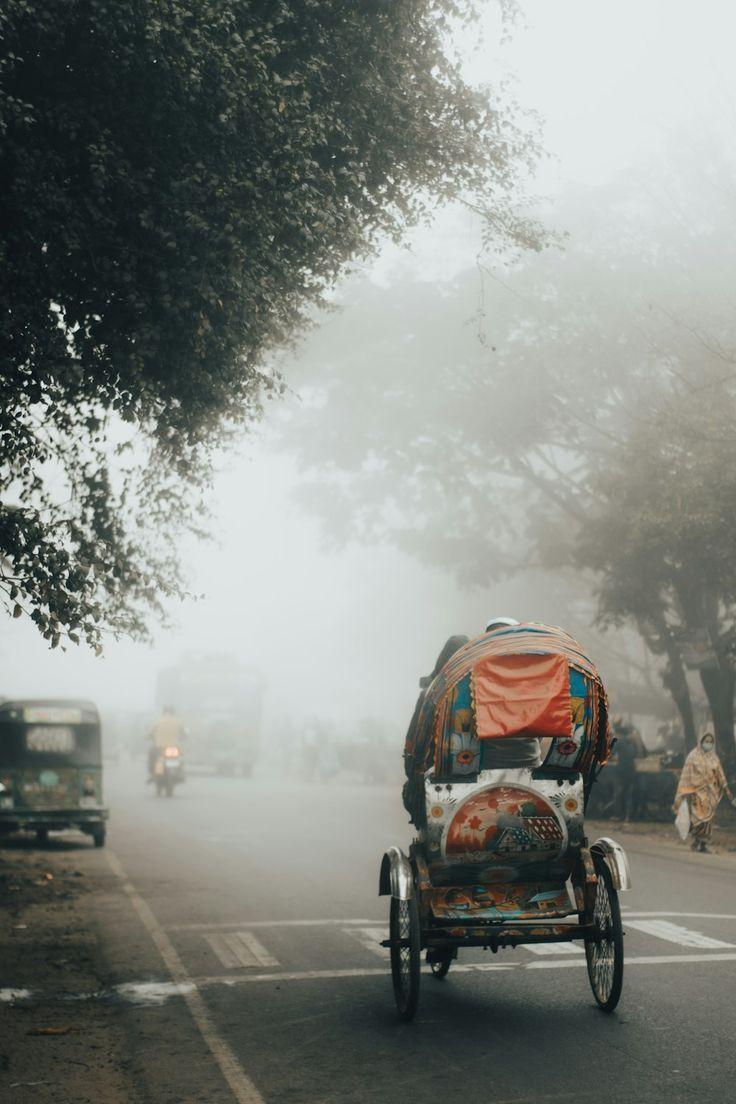Rickshaw: (379, 623, 630, 1019)
